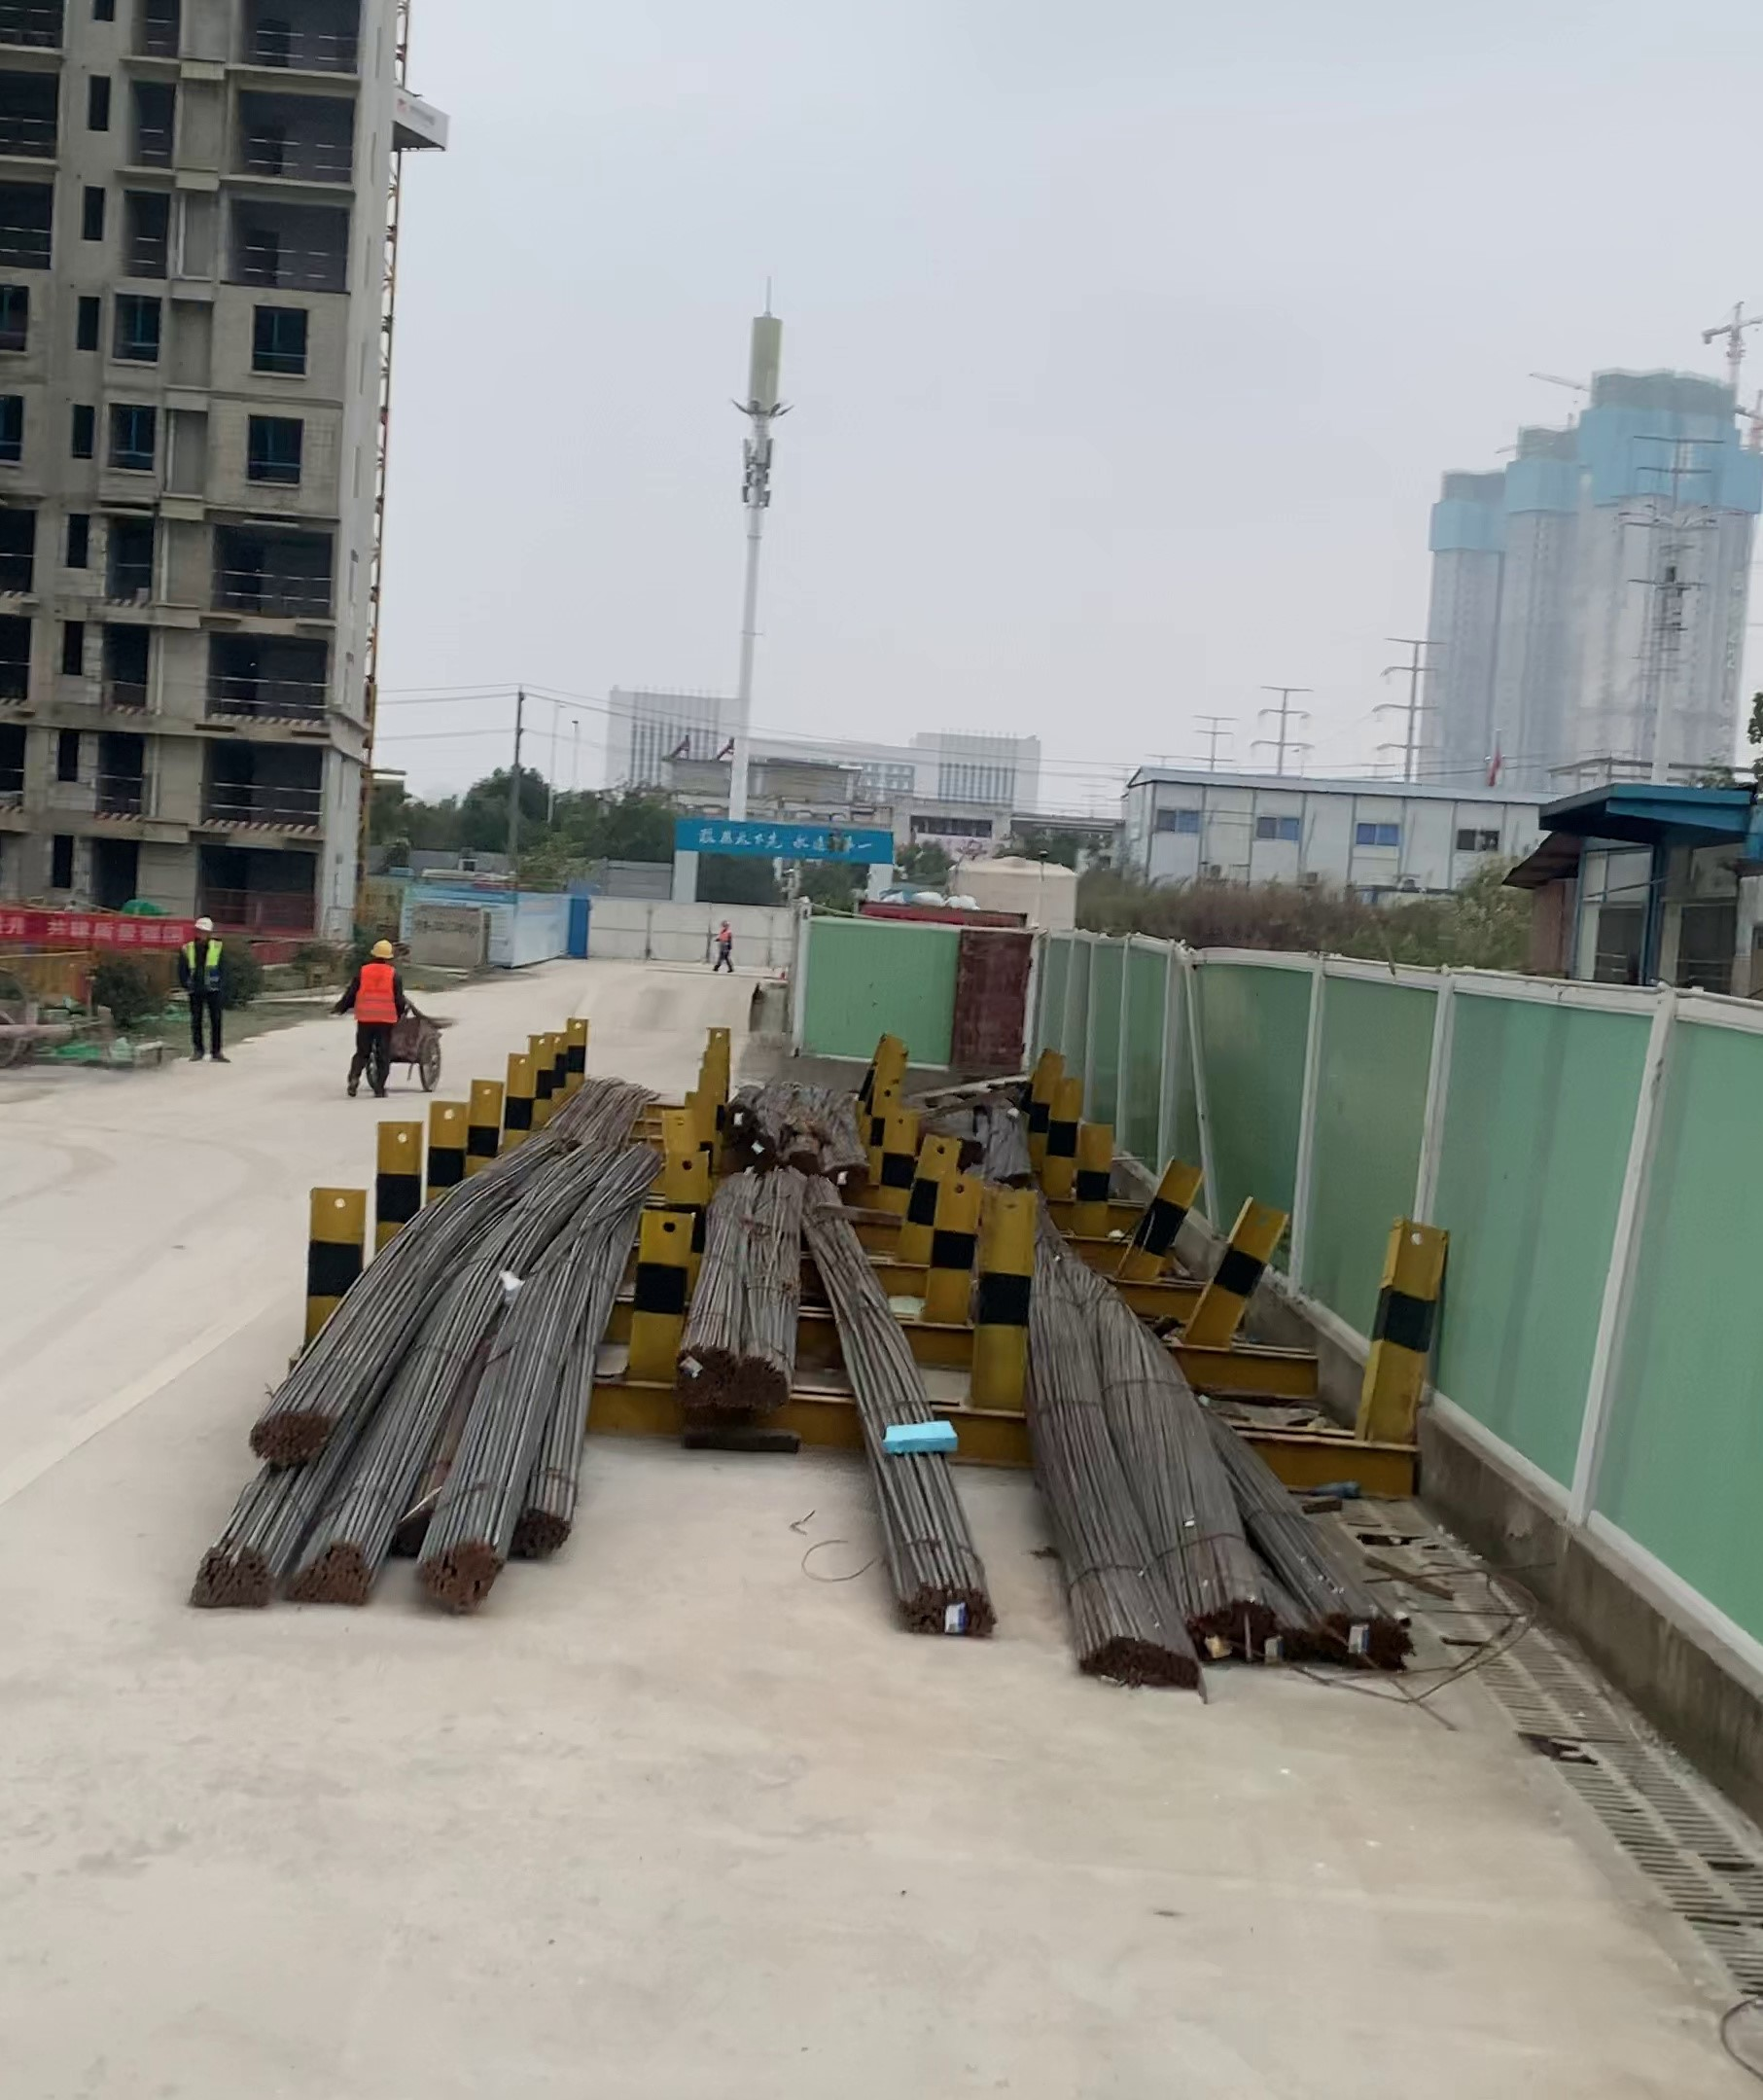rebar: (1081, 1633, 1200, 1694), (184, 1538, 275, 1608), (427, 1528, 505, 1606), (908, 1564, 993, 1636), (304, 1535, 371, 1612), (1191, 1596, 1270, 1661), (247, 1414, 338, 1466), (502, 1493, 570, 1561), (733, 1349, 792, 1412), (666, 1347, 733, 1402), (1345, 1613, 1413, 1662), (1275, 1615, 1329, 1669), (392, 1508, 429, 1552)
